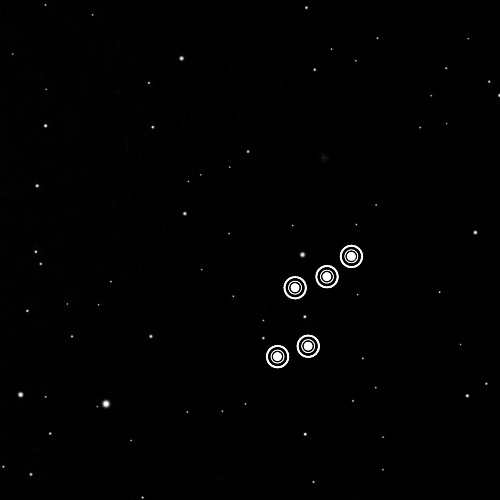lyra: (258, 231, 372, 382)
